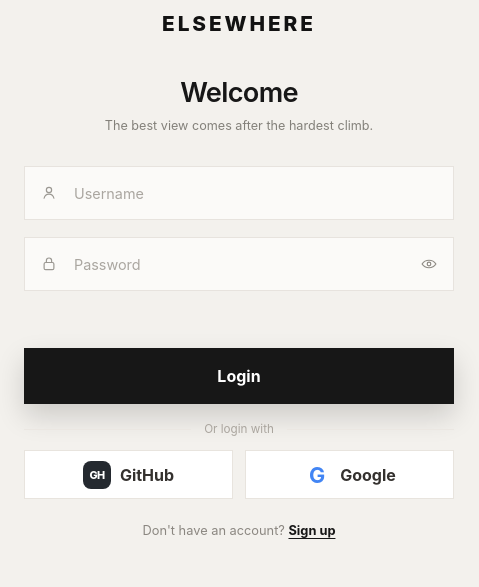
Test case: AuthPanel › keeps the user on the form when the server rejects the credentials
The image size is (479, 587).
In the field labelled "Username": {"x": 262, "y": 193} 72,167 -> 453,219, type "traveler"
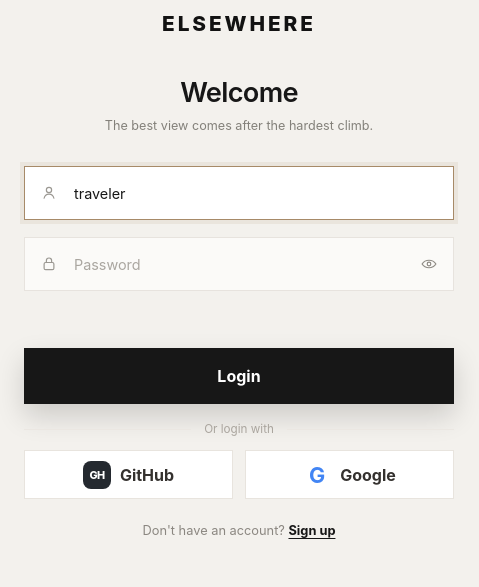
In the password field labelled "Password": {"x": 238, "y": 264} 72,238 -> 405,290, type "wrong password"
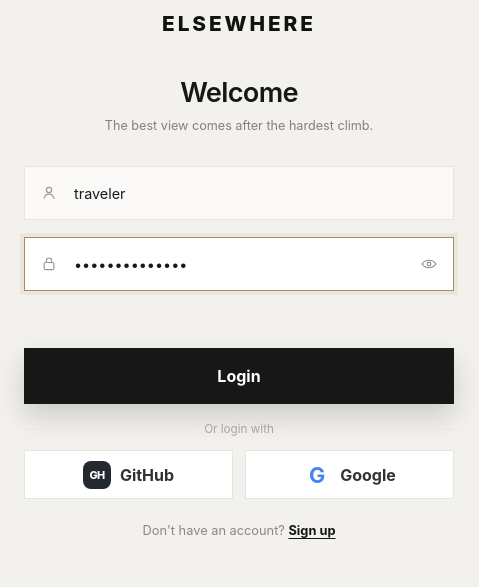
Click the button "Login": {"x": 239, "y": 376} 24,348 -> 454,404
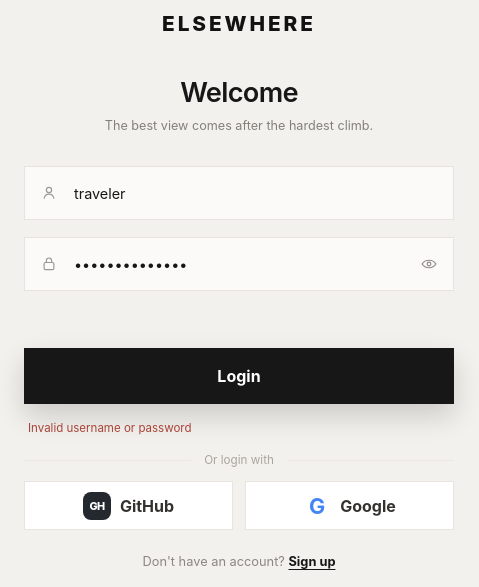
Result: the message reads "Invalid username or password" at 28,421 -> 192,435
